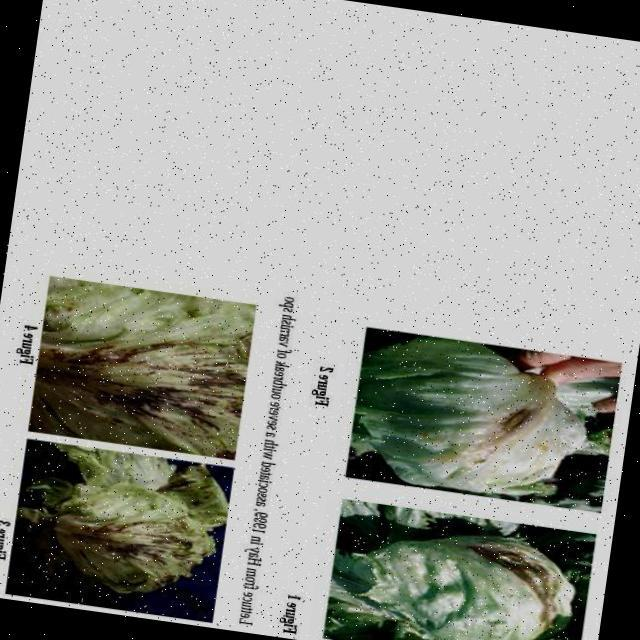Bacterial: (354, 353, 594, 506), (329, 503, 591, 640), (39, 302, 250, 446), (35, 484, 196, 590)
